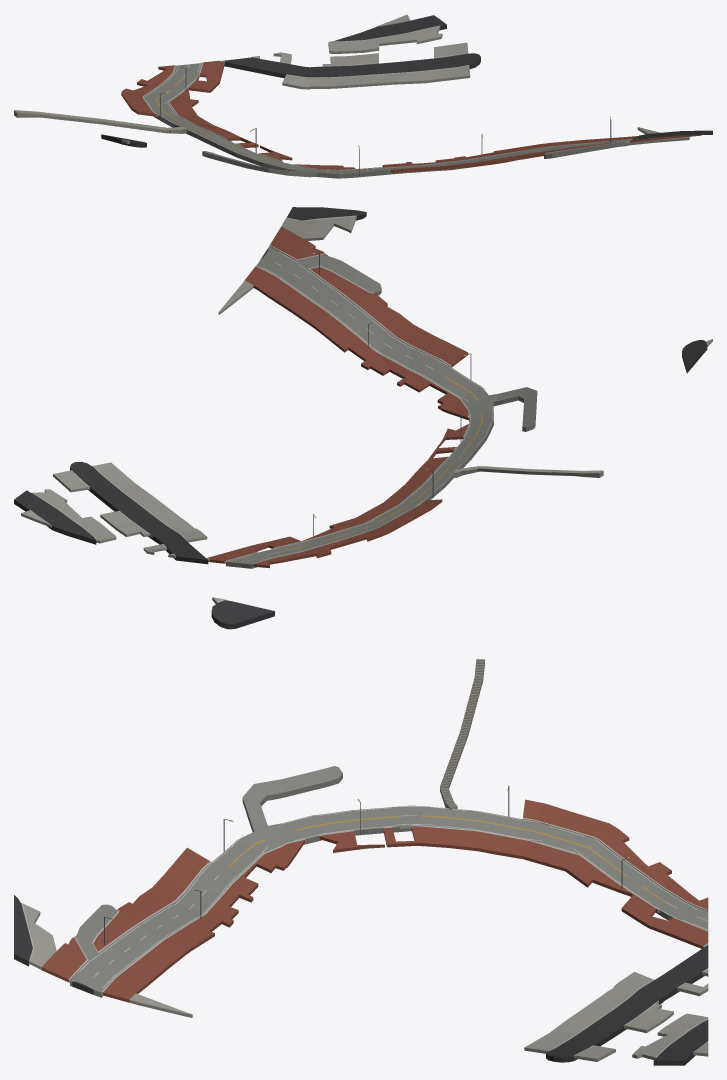
3 views of the same model, one above another, from view 1: azimuth 30°, elevation 25°; view 2: azimuth 150°, elevation 25°; view 3: azimuth 270°, elevation 25° (orthographic). The views are drawn at different scales.
Bounding box in the file's own units: 147 × 43.91 × 147.
